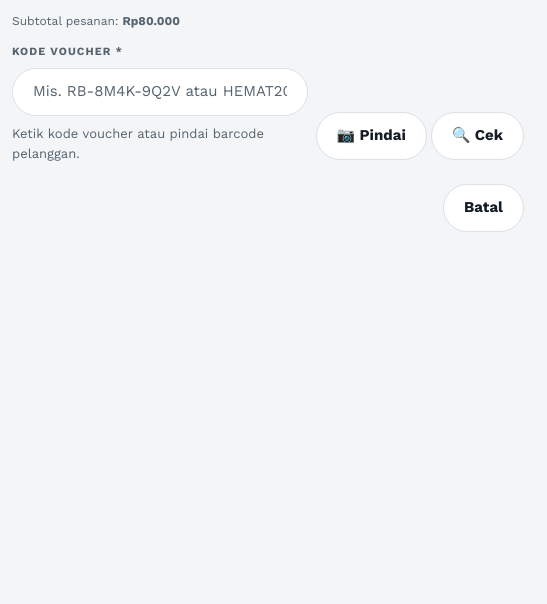
VoucherKasir (T8-09) › menampilkan galat dan menghapus PIN saat verifikasi peladen gagal
The image size is (547, 604).
Type "VC-HEMAT20" into the field labelled "Kode voucher *" at (160, 92), box [12,68,308,116]
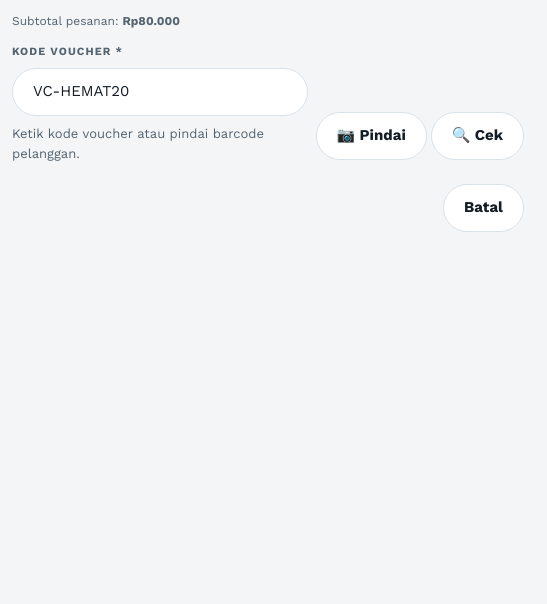
Click the button with aria-label "Cek voucher" at (477, 136), box [431,112,524,160]
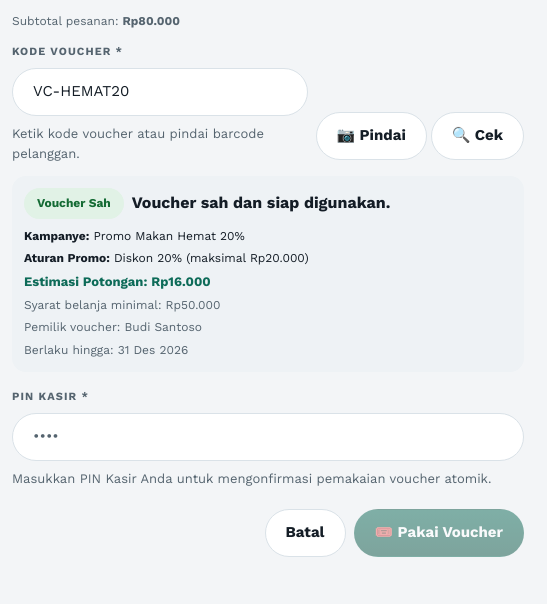
expect the element with test id "voucher-hasil-cek-sukses" is shown: met, box [12,176,524,372]
Type "9999" into the password field labelled "PIN Kasir *" at (268, 437), box [12,413,524,461]
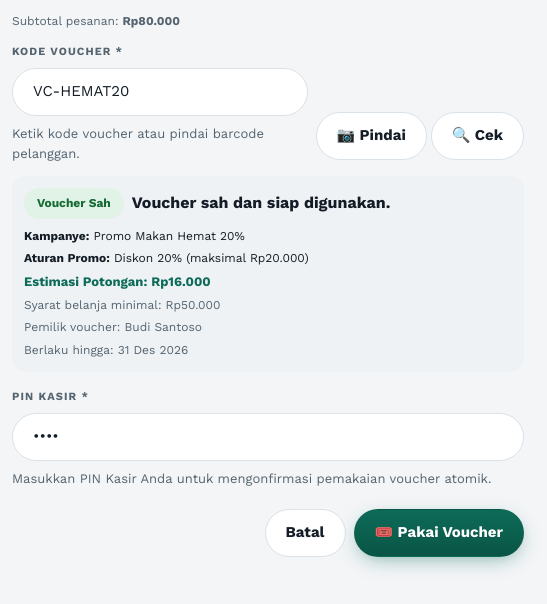
Click the button "🎟️ Pakai Voucher" at (439, 533), box [354,509,524,557]
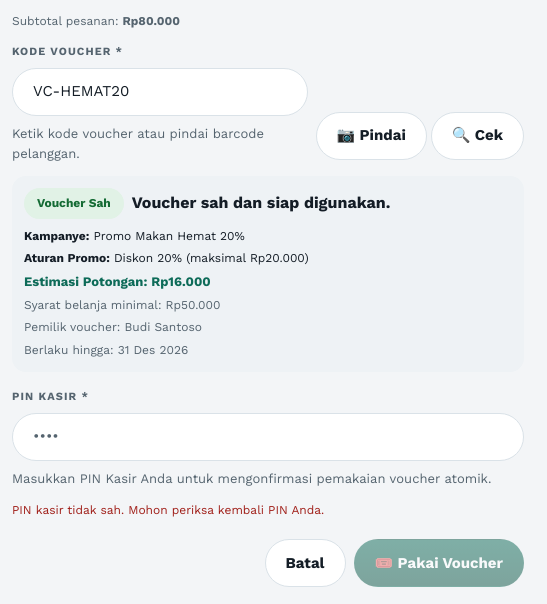
expect the message with test id "voucher-pesan-pakai" shows "PIN kasir tidak sah": met, box [12,503,324,517]
expect the password field labelled "PIN Kasir *" is empty: met, box [12,413,524,461]
